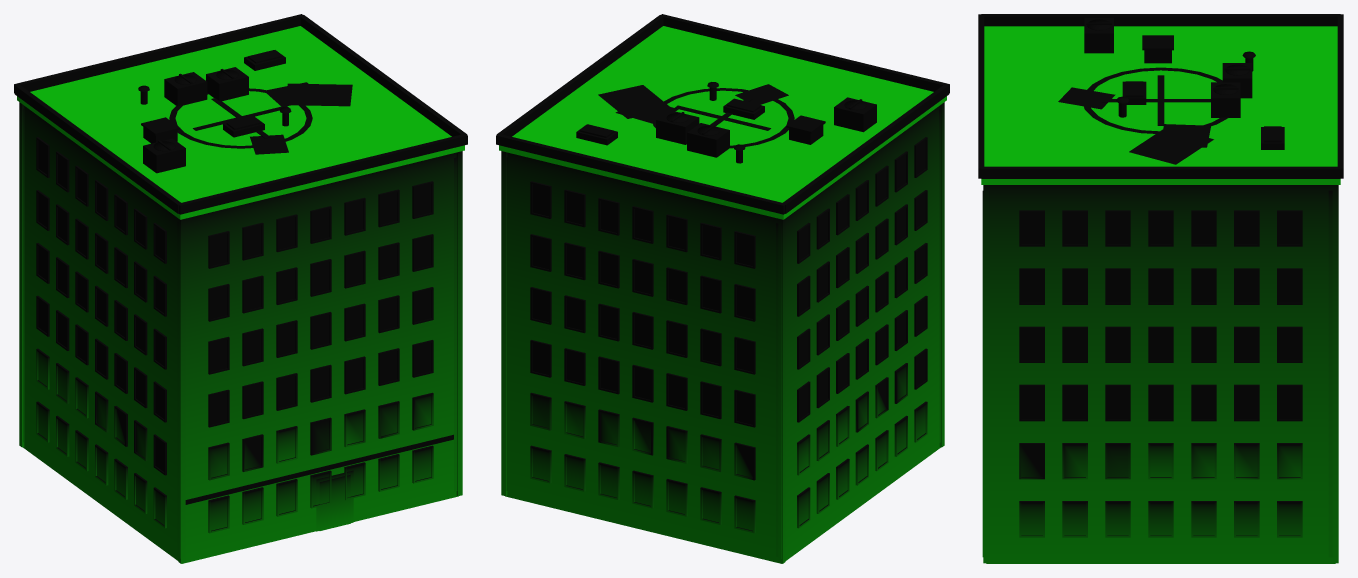
File: city6storya.glb
3 renders of one model, left to right at view 1: azimuth 30°, elevation 25°; view 2: azimuth 150°, elevation 25°; view 3: azimuth 270°, elevation 25°, orthographic. The views are drawn at different scales.
Parts seen in each view (by area): view 1: lod0; view 2: lod0; view 3: lod0.
Boxes of the visible parts, <box> form: lod0: <box>14,14,467,563</box>; lod0: <box>496,14,949,563</box>; lod0: <box>978,14,1343,563</box>.
Size of what is drawn, in the model's own units: 18.6 by 22.94 by 18.5.
